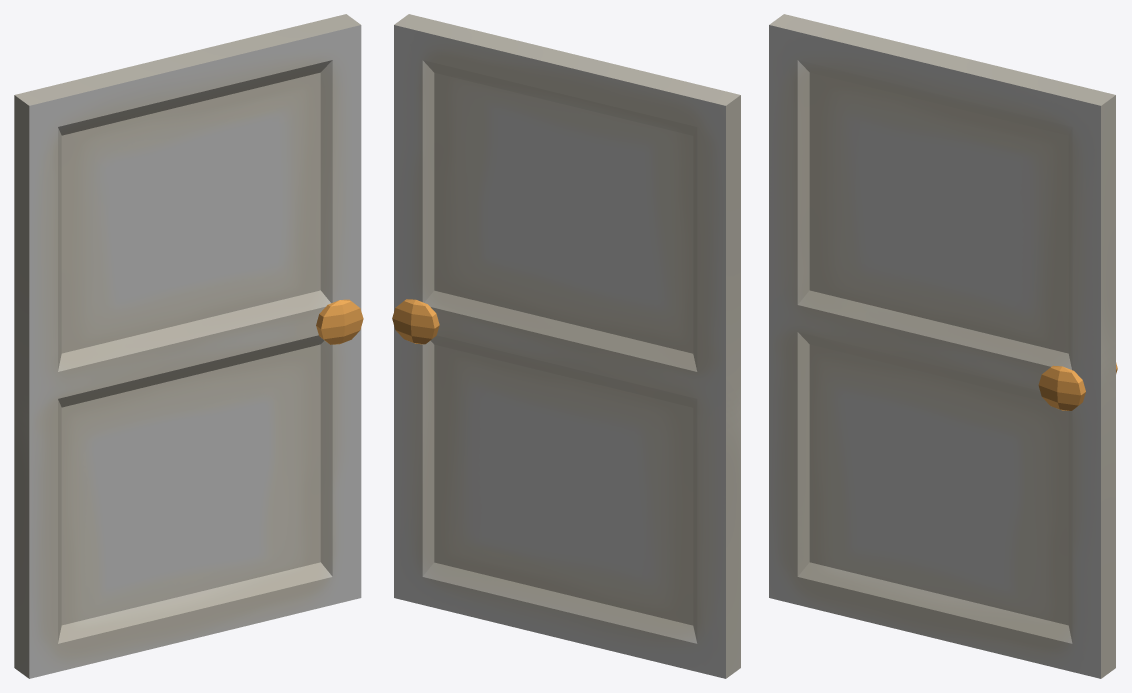
File: newDoor.fbx
3 views of the same model, side by side, from view 1: azimuth 30°, elevation 25°; view 2: azimuth 150°, elevation 25°; view 3: azimuth 330°, elevation 25° (orthographic).
Visible parts, largest first — view 1: Cube; view 2: Cube; view 3: Cube.
Part boxes in pixels (bbox=[...]): Cube: bbox=[14, 14, 363, 678]; Cube: bbox=[392, 14, 740, 678]; Cube: bbox=[769, 14, 1117, 678].
Bounding box in the file's own units: 303 × 500 × 66.28.
